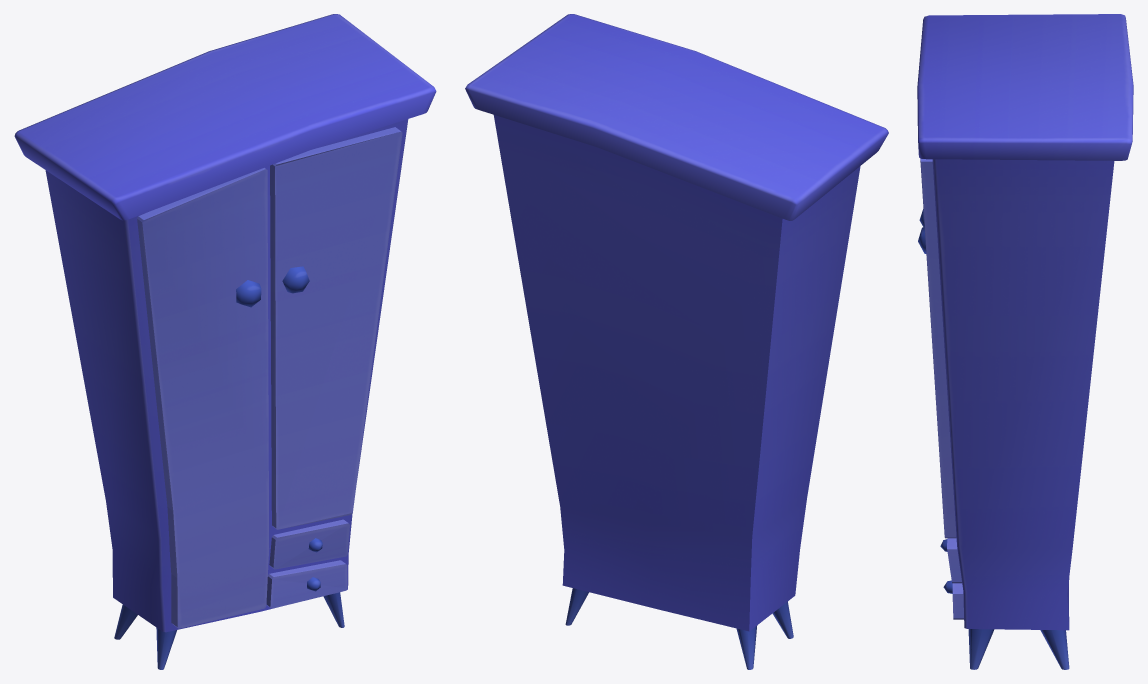
The model's file is Cabinet.FBX.
3 views of the same model, side by side, from view 1: azimuth 30°, elevation 25°; view 2: azimuth 150°, elevation 25°; view 3: azimuth 270°, elevation 25° (orthographic). The views are drawn at different scales.
Visible parts, largest first — view 1: Cabinet; view 2: Cabinet; view 3: Cabinet.
Boxes of the visible parts, x1,y1,x2,y2 form: Cabinet: [14, 14, 436, 669]; Cabinet: [465, 14, 888, 669]; Cabinet: [917, 14, 1133, 669].
Bounding box in the file's own units: 125 × 197 × 68.46.
